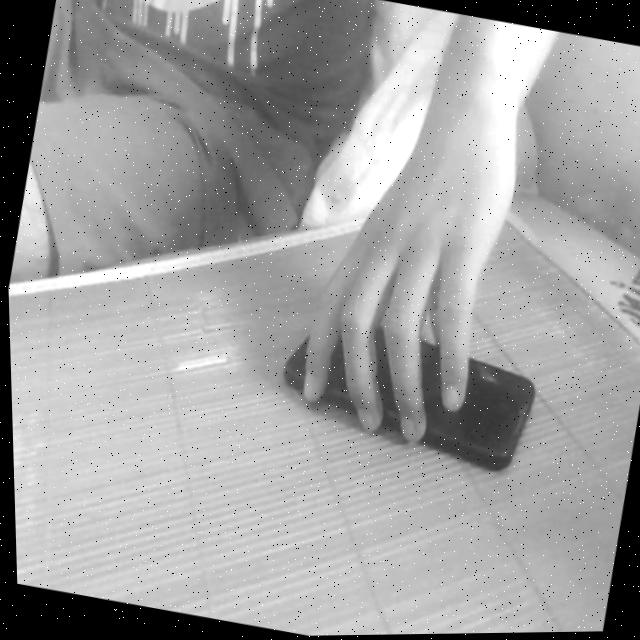phone: (233, 246, 577, 529)
